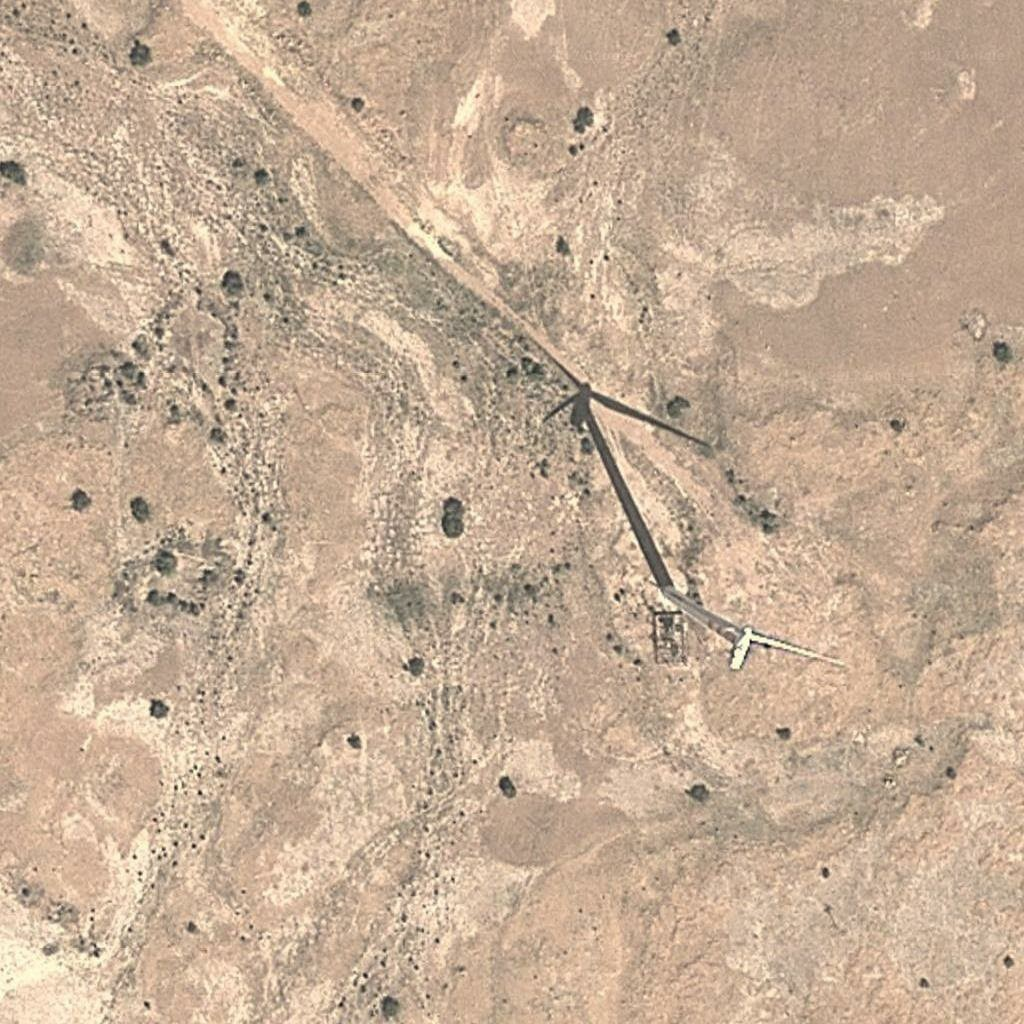Windmill: (517, 329, 695, 579)
